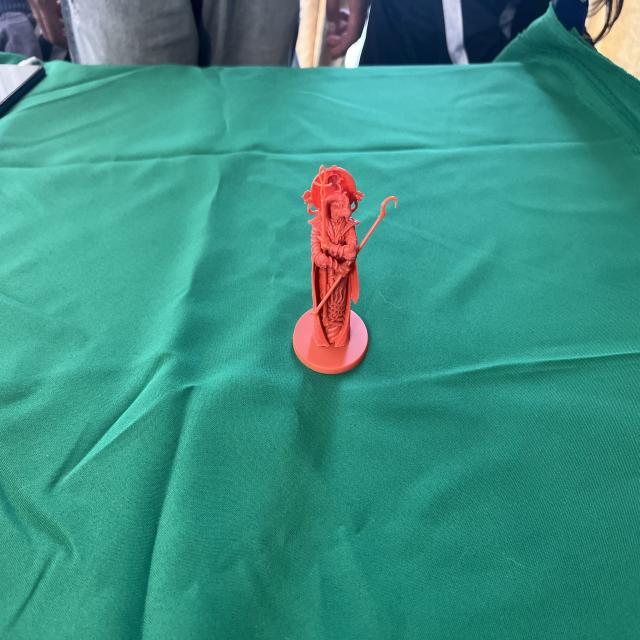amon: (285, 159, 400, 381)
